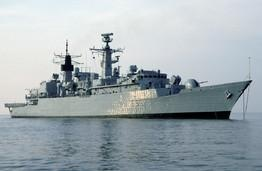warship: (6, 29, 252, 118)
